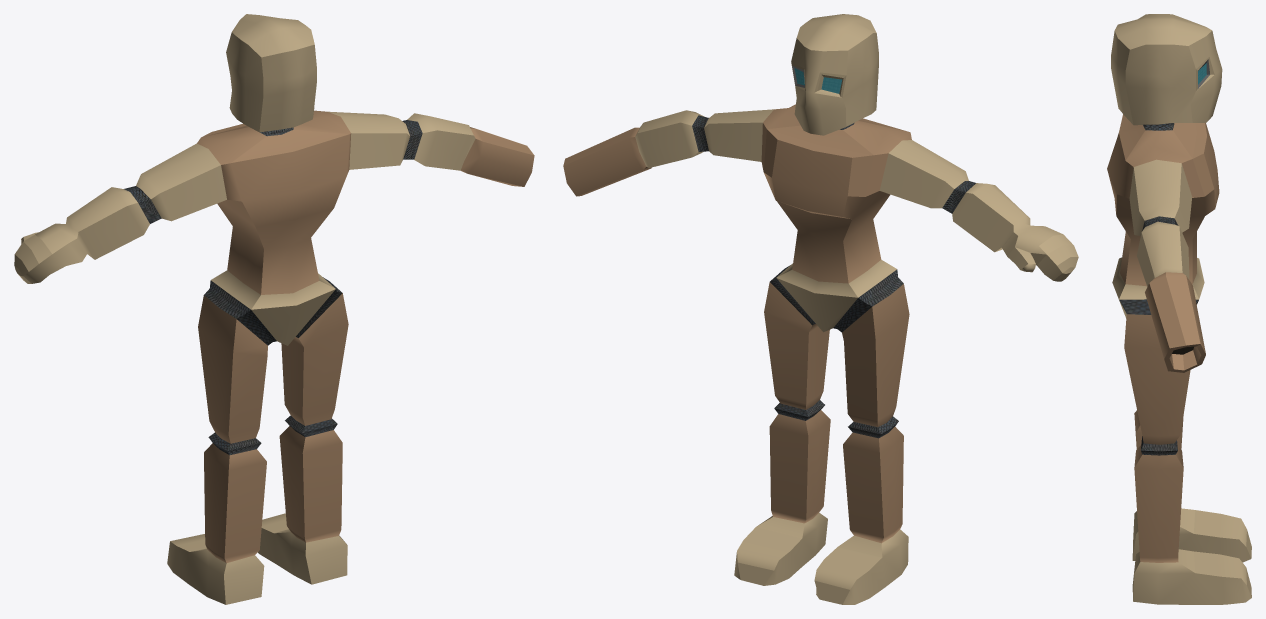
File: Player_Robot.fbx
3 views of the same model, side by side, from view 1: azimuth 30°, elevation 25°; view 2: azimuth 150°, elevation 25°; view 3: azimuth 270°, elevation 25° (orthographic). The views are drawn at different scales.
Parts seen in each view (by area): view 1: pCube1; view 2: pCube1; view 3: pCube1.
Boxes of the visible parts, bbox=[...] form: pCube1: bbox=[14, 14, 534, 604]; pCube1: bbox=[563, 14, 1078, 604]; pCube1: bbox=[1107, 14, 1251, 604].
Size of the model in its own units: 7.2 by 7.44 by 1.77.
Materials: 1 (1 with a texture image).
